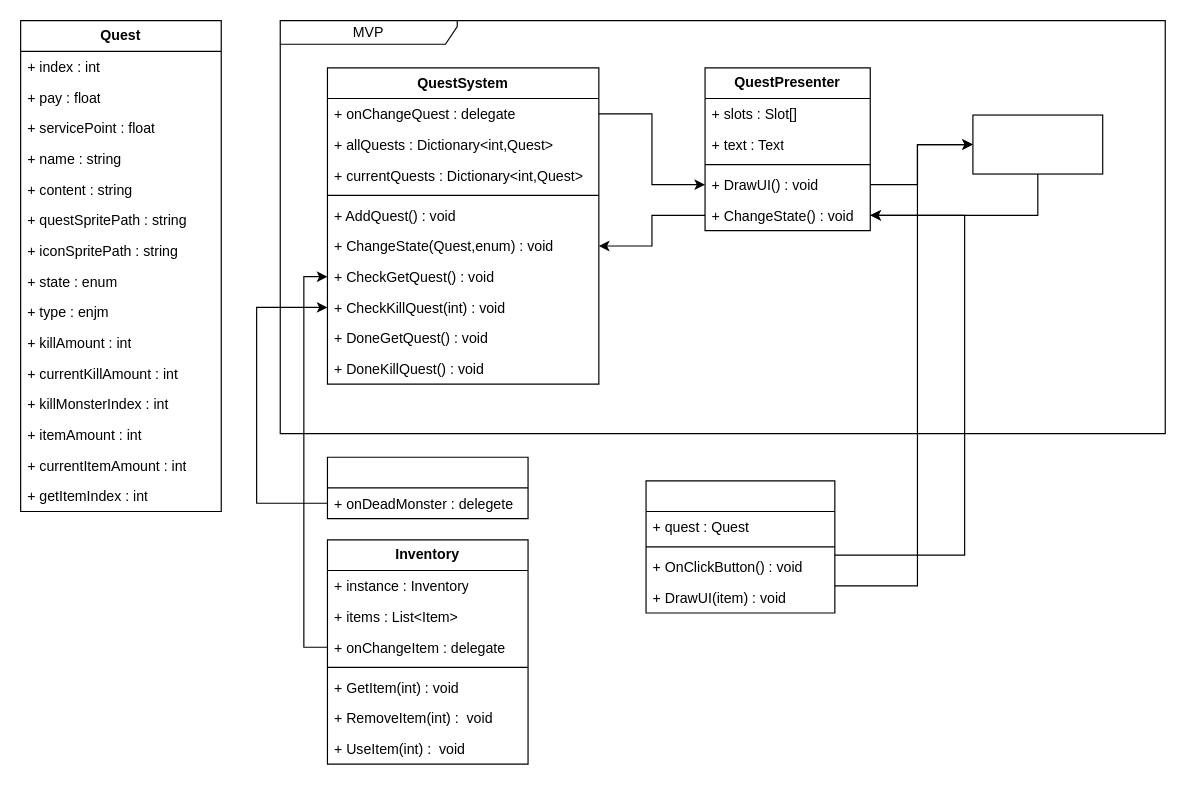
This 1186x788 diagram has some shape labels left out. The box of each missing label's shape, as (x1, y1, x2, y2) in pixels:
Ingame View: (972, 114, 1103, 174)
MonsterSystem: (326, 456, 528, 519)
Slot: (645, 480, 835, 613)
